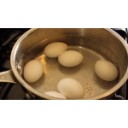begg: (58, 78, 84, 98), (95, 60, 118, 81), (24, 60, 44, 81), (59, 51, 85, 66)
